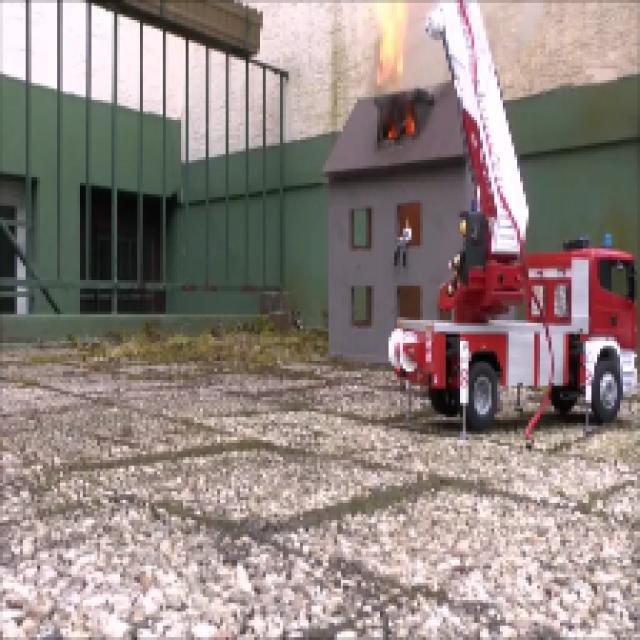smoke: (370, 2, 403, 83)
